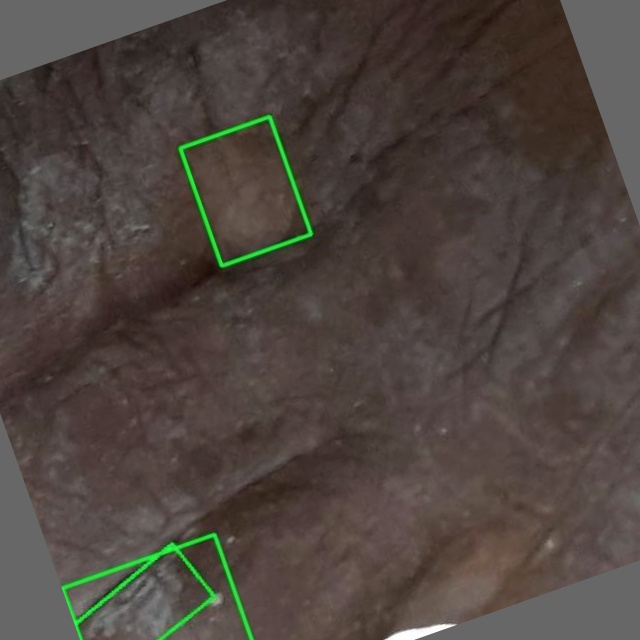Eczema: (180, 116, 311, 266), (75, 543, 215, 639)
